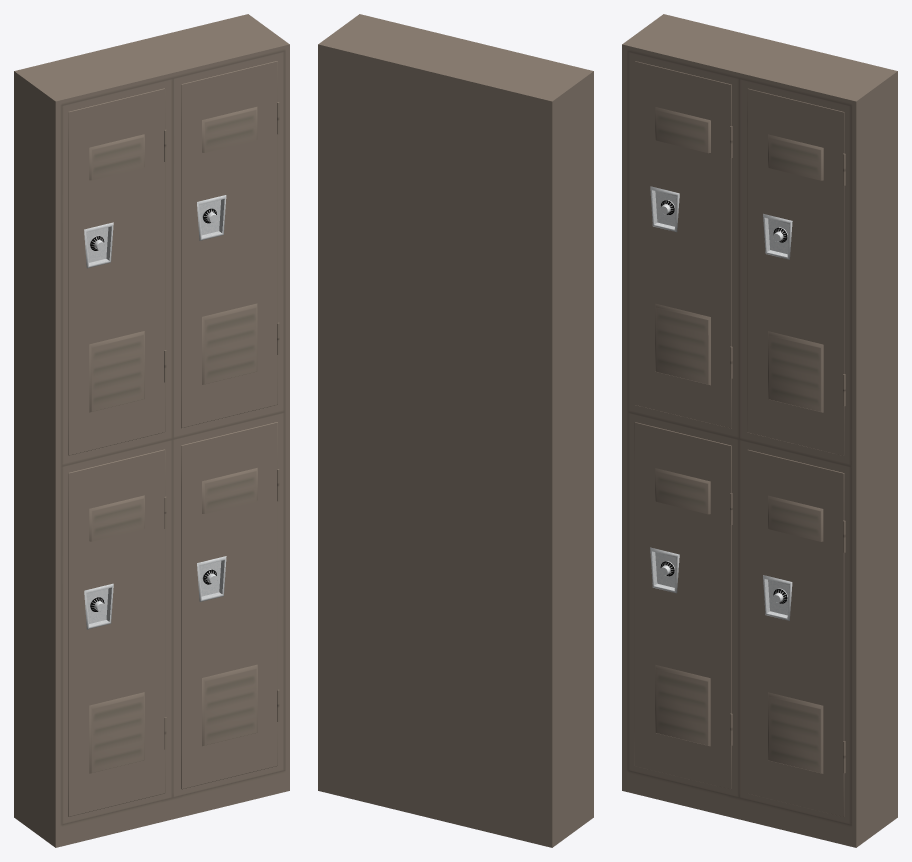
File: SchoolLocker01_1.FBX
The picture shows the model from 3 angles, left to right: view 1: azimuth 30°, elevation 25°; view 2: azimuth 150°, elevation 25°; view 3: azimuth 330°, elevation 25°; orthographic projection.
Visible parts, largest first — view 1: SchoolLocker01, Locker03, Locker01, Locker04, Locker02; view 2: SchoolLocker01; view 3: SchoolLocker01, Locker03, Locker04, Locker02, Locker01.
Part boxes in pixels (x1,y1,x2,y2): SchoolLocker01: (14,14,289,847); Locker03: (68,449,165,816); Locker01: (68,88,165,455); Locker04: (181,422,277,789); Locker02: (181,61,277,428); SchoolLocker01: (318,14,593,847); SchoolLocker01: (622,14,897,847); Locker03: (634,422,731,789); Locker04: (747,449,844,816); Locker02: (747,88,844,455); Locker01: (635,61,731,428).
Size of the model in its own units: 59.37 by 181 by 19.
